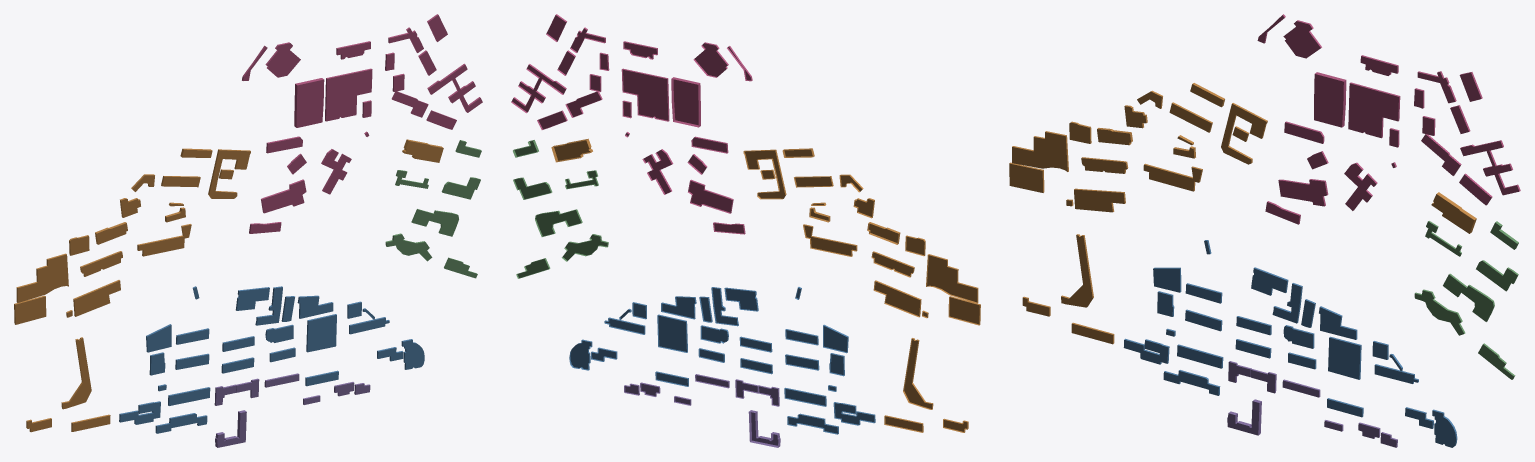
File: buildings_k31.obj
3 renders of one model, left to right at view 1: azimuth 30°, elevation 25°; view 2: azimuth 150°, elevation 25°; view 3: azimuth 330°, elevation 25°, orthographic. The views are drawn at different scales.
Parts seen in each view (by area): view 1: roof1, roof2, roof4, roof3, zone2, zone4, zone1, roof5, zone5, zone3; view 2: roof1, roof2, roof4, zone2, zone4, zone1, roof3, roof5, zone5, zone3; view 3: roof1, roof2, roof4, roof3, zone4, zone2, zone1, roof5, zone3, zone5.
Part boxes in pixels (bbox=[...]): roof1: bbox=[243, 15, 482, 233]; roof2: bbox=[15, 141, 443, 432]; roof4: bbox=[120, 287, 424, 433]; roof3: bbox=[386, 141, 481, 278]; zone2: bbox=[14, 139, 442, 431]; zone4: bbox=[119, 286, 416, 433]; zone1: bbox=[242, 14, 480, 233]; roof5: bbox=[216, 374, 370, 447]; zone5: bbox=[214, 373, 369, 447]; zone3: bbox=[385, 140, 481, 273]; roof1: bbox=[512, 15, 751, 233]; roof2: bbox=[554, 140, 979, 431]; roof4: bbox=[570, 288, 874, 433]; zone2: bbox=[551, 138, 980, 432]; zone4: bbox=[569, 287, 875, 434]; zone1: bbox=[511, 14, 752, 234]; roof3: bbox=[514, 141, 607, 277]; roof5: bbox=[625, 375, 778, 445]; zone5: bbox=[624, 374, 780, 447]; zone3: bbox=[513, 140, 608, 278]; roof1: bbox=[1257, 15, 1519, 224]; roof2: bbox=[1009, 84, 1474, 344]; roof4: bbox=[1123, 241, 1455, 447]; roof3: bbox=[1414, 221, 1517, 379]; zone4: bbox=[1124, 240, 1457, 445]; zone2: bbox=[1009, 83, 1476, 343]; zone1: bbox=[1264, 14, 1520, 224]; roof5: bbox=[1227, 362, 1396, 447]; zone3: bbox=[1415, 221, 1518, 379]; zone5: bbox=[1227, 361, 1397, 447].
Size of the model in its own units: 1006 by 801 by 8.5.
